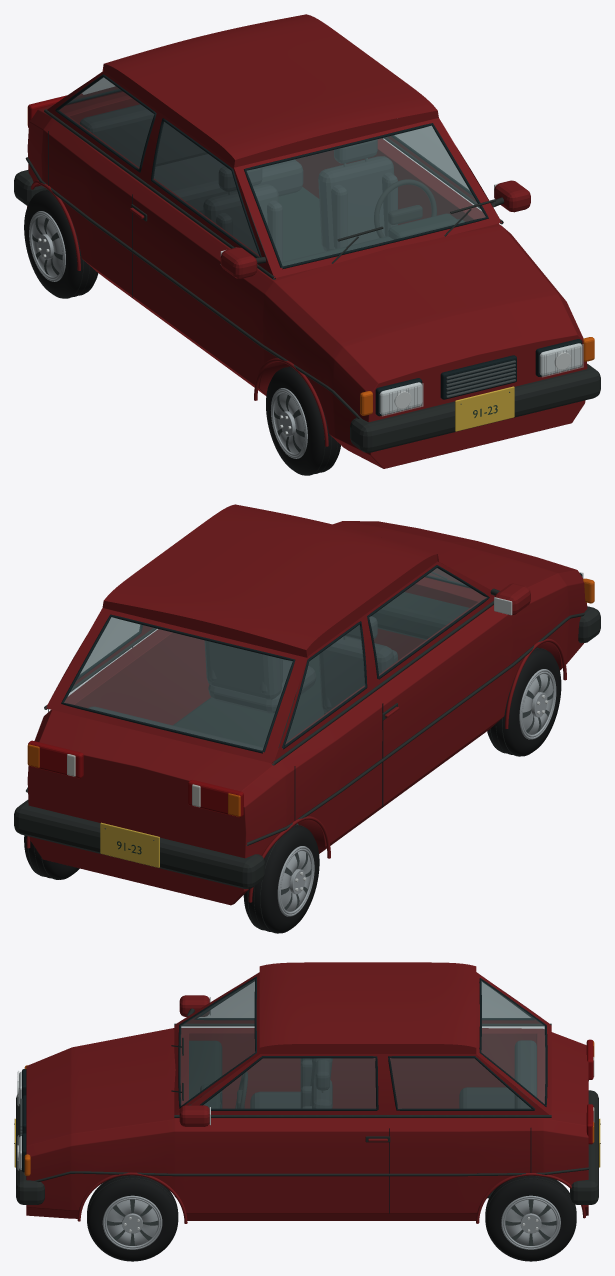
The model's file is kei-hatch.glb.
3 renders of one model, top to bottom at view 1: azimuth 30°, elevation 25°; view 2: azimuth 150°, elevation 25°; view 3: azimuth 270°, elevation 25°, orthographic. The views are drawn at different scales.
Parts seen in each view (by area): view 1: formed steel body, windshield, cloth cushion, belt molding, windshield gasket, tire casing, interior floor, rim bead, headrest post, registration plate, headlamp reflector, fluted headlamp cover (+2 smaller); view 2: formed steel body, windshield, belt molding, cloth cushion, tire casing, interior floor, windshield gasket, rim bead, rear combination lamp, registration plate, front indicator, headrest post; view 3: formed steel body, windshield, tire casing, belt molding, windshield gasket, cloth cushion, rim bead, interior floor, headrest post, rear combination lamp.
Boxes of the visible parts, bbox=[...] form: formed steel body: bbox=[27, 14, 587, 468]; windshield: bbox=[59, 77, 485, 266]; cloth cushion: bbox=[80, 104, 397, 261]; belt molding: bbox=[14, 109, 600, 475]; windshield gasket: bbox=[48, 74, 582, 416]; tire casing: bbox=[24, 189, 340, 475]; interior floor: bbox=[279, 187, 464, 266]; rim bead: bbox=[29, 211, 307, 458]; headrest post: bbox=[32, 158, 515, 452]; registration plate: bbox=[455, 386, 514, 431]; headlamp reflector: bbox=[379, 343, 582, 415]; fluted headlamp cover: bbox=[382, 344, 583, 416]; formed steel body: bbox=[26, 504, 587, 905]; windshield: bbox=[64, 568, 487, 750]; belt molding: bbox=[14, 572, 600, 933]; cloth cushion: bbox=[88, 616, 397, 750]; tire casing: bbox=[24, 647, 561, 933]; interior floor: bbox=[173, 592, 469, 825]; windshield gasket: bbox=[48, 565, 582, 820]; rim bead: bbox=[277, 669, 556, 916]; rear combination lamp: bbox=[28, 740, 243, 817]; registration plate: bbox=[100, 822, 159, 867]; front indicator: bbox=[27, 578, 594, 816]; headrest post: bbox=[104, 636, 553, 909]; formed steel body: bbox=[26, 962, 588, 1223]; windshield: bbox=[180, 979, 545, 1108]; tire casing: bbox=[87, 1175, 576, 1261]; belt molding: bbox=[16, 1008, 598, 1237]; windshield gasket: bbox=[22, 976, 547, 1213]; cloth cushion: bbox=[250, 1040, 536, 1108]; rim bead: bbox=[102, 1195, 560, 1249]; interior floor: bbox=[174, 1040, 493, 1198]; headrest post: bbox=[14, 1090, 600, 1245]; rear combination lamp: bbox=[586, 1039, 593, 1144].
Bounding box in the file's own units: 1.65 × 1.39 × 3.44.
